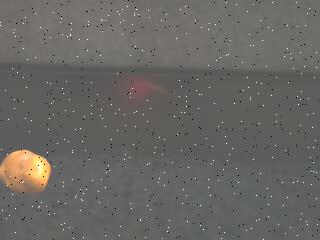Potato: (0, 148, 52, 197)
